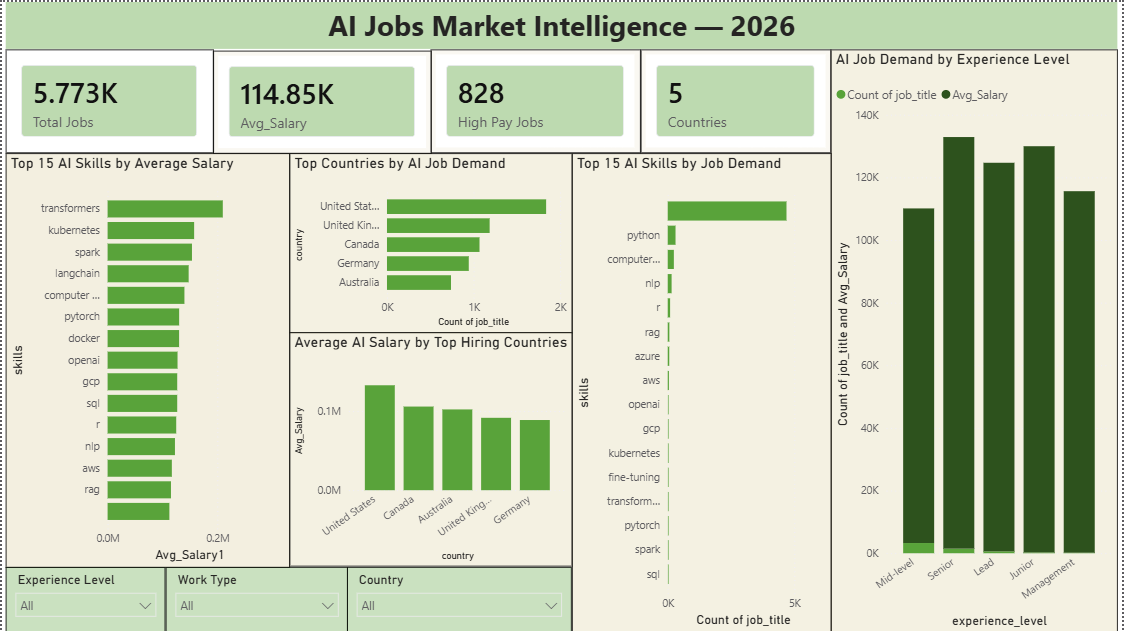

The dashboard page shown, as its layout file describes it:
{"tool":"powerbi","page":{"name":"Page 1","canvas":[1280,720],"ordinal":0},"visuals":[{"type":"textbox","box":[4.9,0,1270.5,53.8],"z":0},{"type":"cardVisual","fields":{"Data":["CountNonNull(ai_jobs_global.job_title)"]},"box":[3.7,53.8,237.2,118.6],"z":1000},{"type":"cardVisual","fields":{"Data":["ai_jobs_global.Avg_Salary"]},"box":[240.9,55,249.5,117.4],"z":2000},{"type":"cardVisual","fields":{"Data":["Count(ai_jobs_global.country)"]},"box":[730,53.8,217.7,118.6],"z":3000},{"type":"cardVisual","fields":{"Data":["CountNonNull(ai_jobs_global.Salary Band1)"]},"box":[490.4,53.8,239.7,118.6],"z":4000},{"type":"clusteredBarChart","title":"Top 15 AI Skills by Job Demand","fields":{"Category":["ai_jobs_global (2).skills"],"Y":["CountNonNull(ai_jobs_global (2).job_title)"]},"box":[651.4,172.5,296.5,547.3],"z":5000},{"type":"clusteredBarChart","title":"Top 15 AI Skills by Average Salary","fields":{"Category":["ai_jobs_global (2).skills"],"Y":["ai_jobs_global (2).Avg_Salary1"]},"box":[4.3,172.5,325,473.2],"z":6000},{"type":"clusteredBarChart","title":"Top Countries by AI Job Demand","fields":{"Category":["ai_jobs_global.country"],"Y":["CountNonNull(ai_jobs_global.job_title)"]},"box":[328.9,172.4,322.8,205.4],"z":7000},{"type":"columnChart","title":"Average AI Salary by Top Hiring Countries","fields":{"Category":["ai_jobs_global.country"],"Y":["ai_jobs_global.Avg_Salary"]},"box":[328.9,377.9,322.8,267.8],"z":8000},{"type":"columnChart","title":"AI Job Demand by Experience Level","fields":{"Category":["ai_jobs_global.experience_level"],"Y":["CountNonNull(ai_jobs_global.job_title)","ai_jobs_global.Avg_Salary"]},"box":[947.7,53.8,327.7,666.4],"z":9000},{"type":"slicer","fields":{"Values":["ai_jobs_global.experience_level"]},"box":[4.3,645.7,182.4,74.1],"z":10000},{"type":"slicer","fields":{"Values":["ai_jobs_global.remote_type"]},"box":[186.7,645.7,208.1,74.1],"z":11000},{"type":"slicer","fields":{"Values":["ai_jobs_global.country"]},"box":[394.8,645.7,256.6,74.1],"z":12000}]}

Visuals, with their boxes in screenshot pixels (x1, y1, x2, y2), scaled from the page's 1280x720 canvas onto the 1124x631 screenshot:
textbox: {"left": 4, "top": 0, "right": 1120, "bottom": 47}
cardVisual - CountNonNull(ai_jobs_global.job_title): {"left": 3, "top": 47, "right": 212, "bottom": 151}
cardVisual - ai_jobs_global.Avg_Salary: {"left": 212, "top": 48, "right": 431, "bottom": 151}
cardVisual - Count(ai_jobs_global.country): {"left": 641, "top": 47, "right": 832, "bottom": 151}
cardVisual - CountNonNull(ai_jobs_global.Salary Band1): {"left": 431, "top": 47, "right": 641, "bottom": 151}
"Top 15 AI Skills by Job Demand" clusteredBarChart: {"left": 572, "top": 151, "right": 832, "bottom": 630}
"Top 15 AI Skills by Average Salary" clusteredBarChart: {"left": 4, "top": 151, "right": 289, "bottom": 566}
"Top Countries by AI Job Demand" clusteredBarChart: {"left": 289, "top": 151, "right": 572, "bottom": 331}
"Average AI Salary by Top Hiring Countries" columnChart: {"left": 289, "top": 331, "right": 572, "bottom": 566}
"AI Job Demand by Experience Level" columnChart: {"left": 832, "top": 47, "right": 1120, "bottom": 630}
slicer - ai_jobs_global.experience_level: {"left": 4, "top": 566, "right": 164, "bottom": 630}
slicer - ai_jobs_global.remote_type: {"left": 164, "top": 566, "right": 347, "bottom": 630}
slicer - ai_jobs_global.country: {"left": 347, "top": 566, "right": 572, "bottom": 630}
